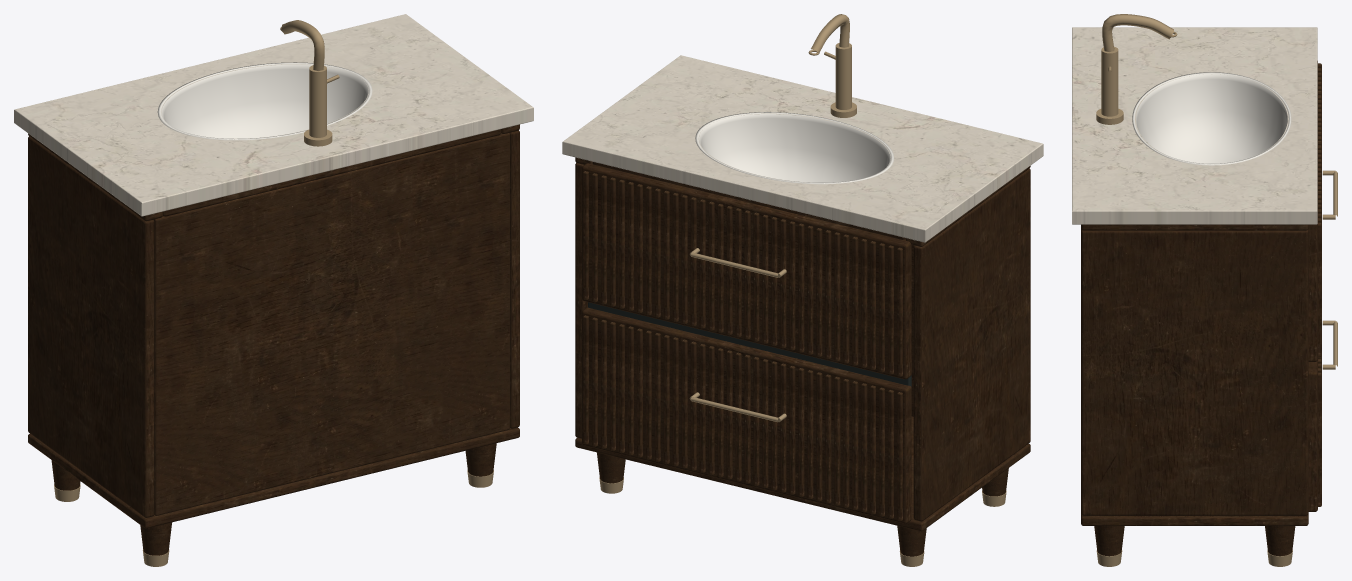
The model's file is bath-single-vanity.glb.
The picture shows the model from 3 angles, left to right: view 1: azimuth 30°, elevation 25°; view 2: azimuth 150°, elevation 25°; view 3: azimuth 270°, elevation 25°; orthographic projection. The views are drawn at different scales.
Parts seen in each view (by area): view 1: walnut_surfaces, stone_surfaces, ceramic_surfaces, bronze_surfaces; view 2: walnut_surfaces, stone_surfaces, ceramic_surfaces, bronze_surfaces, dark_surfaces; view 3: walnut_surfaces, stone_surfaces, ceramic_surfaces, bronze_surfaces.
Part boxes in pixels (x1=…): walnut_surfaces: x1=28, y1=124, x2=519, y2=555; stone_surfaces: x1=14, y1=14, x2=533, y2=216; ceramic_surfaces: x1=157, y1=62, x2=372, y2=140; bronze_surfaces: x1=54, y1=20, x2=493, y2=566; walnut_surfaces: x1=575, y1=157, x2=1030, y2=556; stone_surfaces: x1=562, y1=55, x2=1043, y2=242; ceramic_surfaces: x1=695, y1=112, x2=893, y2=184; bronze_surfaces: x1=599, y1=14, x2=1006, y2=566; dark_surfaces: x1=588, y1=302, x2=911, y2=386; walnut_surfaces: x1=1081, y1=61, x2=1321, y2=556; stone_surfaces: x1=1072, y1=27, x2=1317, y2=224; ceramic_surfaces: x1=1132, y1=72, x2=1291, y2=165; bronze_surfaces: x1=1096, y1=14, x2=1337, y2=566.
Size of the model in its own units: 0.918 by 1.1 by 0.561.
Materials: 5 (2 with a texture image).
